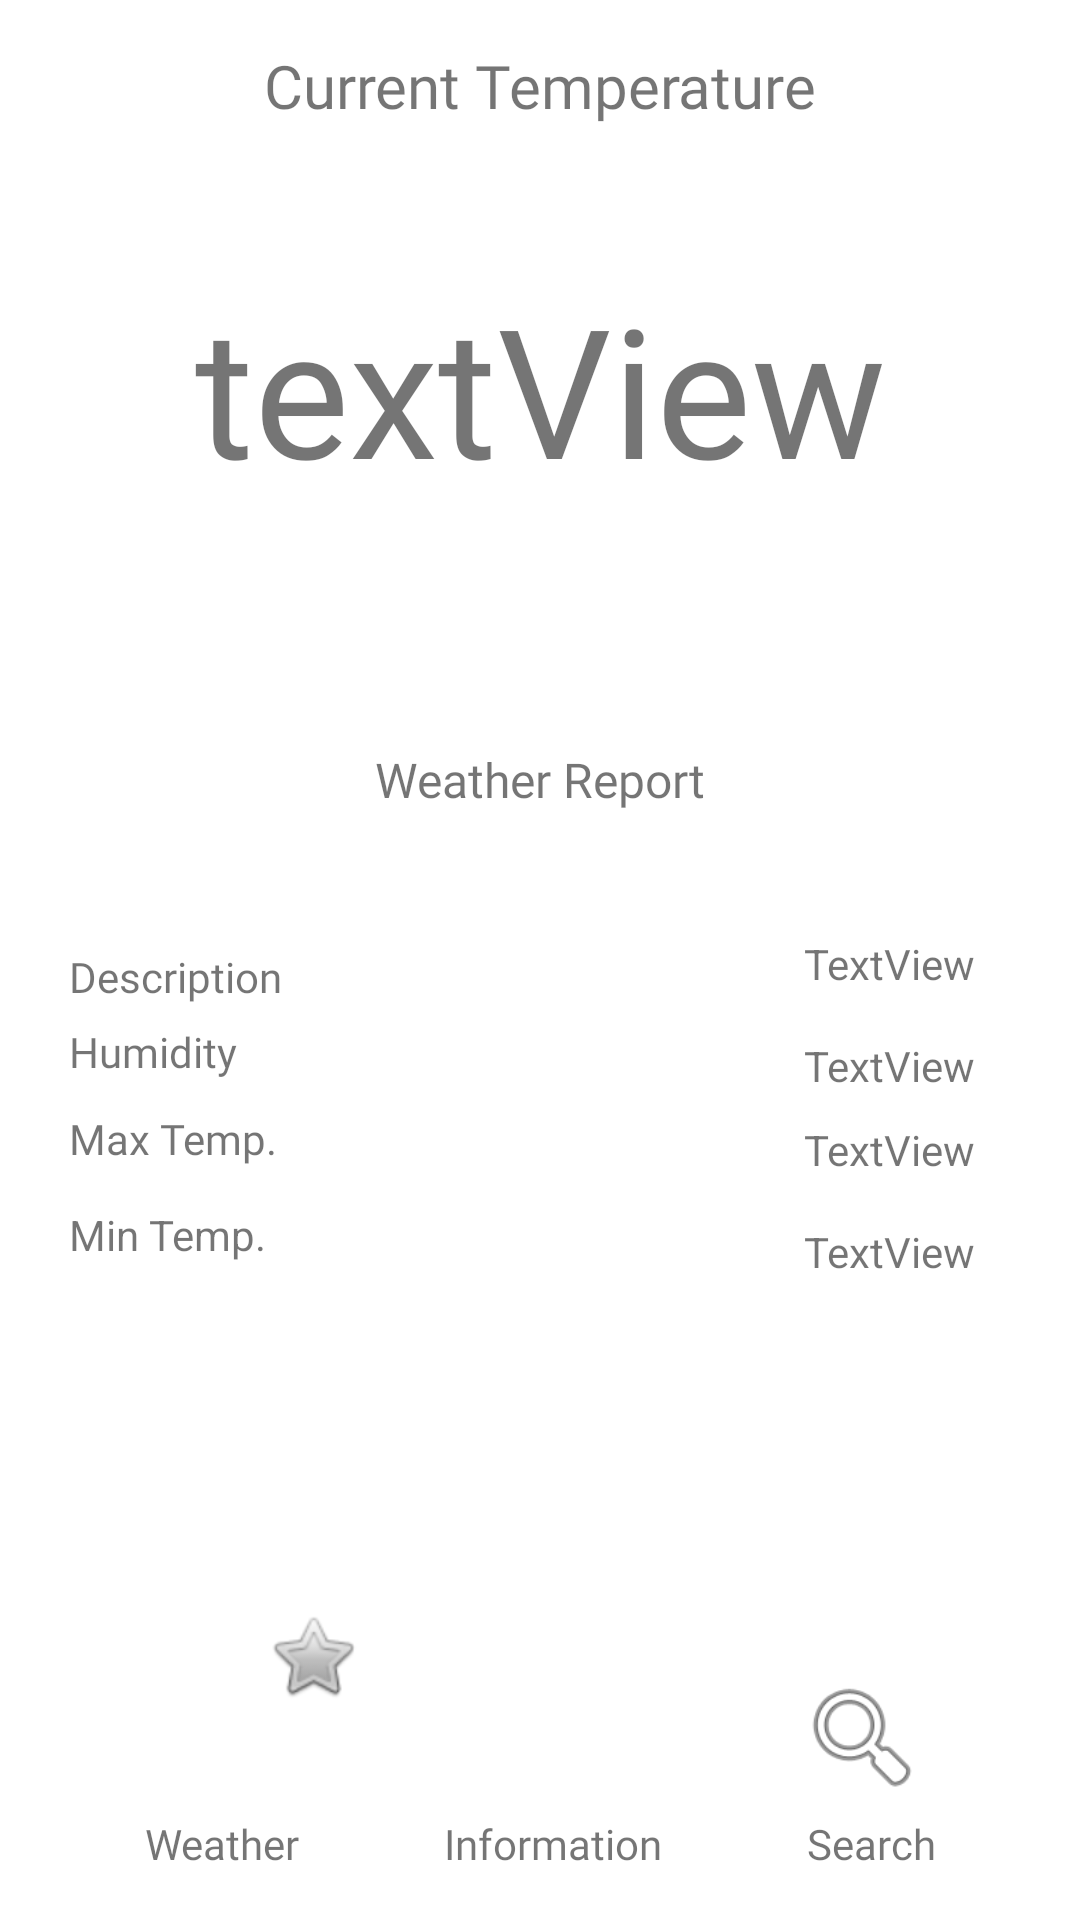

Where icons sit on this 1080 × 1920 app screen, as bbox(x1, y1, x2, y2):
star: bbox(274, 1618, 354, 1696)
